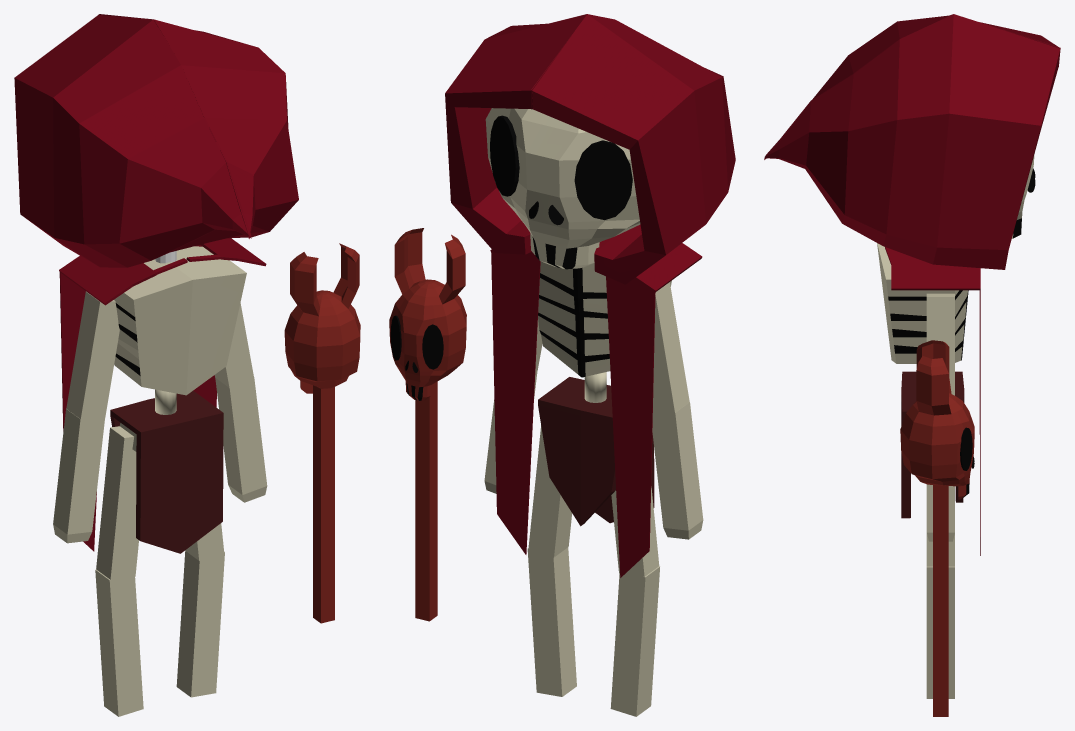
The model's file is Призыватель.fbx.
The picture shows the model from 3 angles, left to right: view 1: azimuth 30°, elevation 25°; view 2: azimuth 150°, elevation 25°; view 3: azimuth 270°, elevation 25°; orthographic projection. The views are drawn at different scales.
Parts seen in each view (by area): view 1: Cube.068, Cube.044, Plane.001, Cube.067, Cube.043, Cube.040, Cube.066, Cube.039, Cube.042, Cube.041; view 2: Cube.068, Cube.066, Plane.002, Plane.001, Cube.043, Cube.067, Cube.044, Cube.040, Cube.042, Cube.039, Cube.041; view 3: Cube.068, Plane.001, Cube.044, Cube.066, Cube.043, Cube.039, Cube.067, Cube.040.
Part boxes in pixels (x1,y1,x2,y2): Cube.068: [14, 14, 298, 267]; Cube.044: [114, 246, 246, 395]; Plane.001: [284, 243, 360, 623]; Cube.067: [110, 390, 223, 553]; Cube.043: [95, 551, 224, 716]; Cube.040: [53, 377, 267, 543]; Cube.066: [59, 238, 266, 551]; Cube.039: [66, 291, 253, 419]; Cube.042: [96, 426, 224, 579]; Cube.041: [119, 389, 176, 451]; Cube.068: [445, 14, 735, 284]; Cube.066: [490, 243, 702, 577]; Plane.002: [485, 108, 640, 269]; Plane.001: [389, 228, 466, 621]; Cube.043: [527, 547, 659, 716]; Cube.067: [538, 377, 654, 526]; Cube.044: [538, 261, 671, 377]; Cube.040: [484, 370, 703, 539]; Cube.042: [528, 425, 659, 576]; Cube.039: [535, 282, 689, 412]; Cube.041: [584, 372, 606, 402]; Cube.068: [764, 14, 1060, 269]; Plane.001: [900, 340, 974, 716]; Cube.044: [877, 243, 968, 363]; Cube.066: [885, 247, 980, 555]; Cube.043: [926, 566, 954, 698]; Cube.039: [926, 293, 954, 395]; Cube.067: [901, 371, 964, 518]; Cube.040: [926, 484, 954, 541].
Size of the model in its own units: 119 by 254 by 103.
